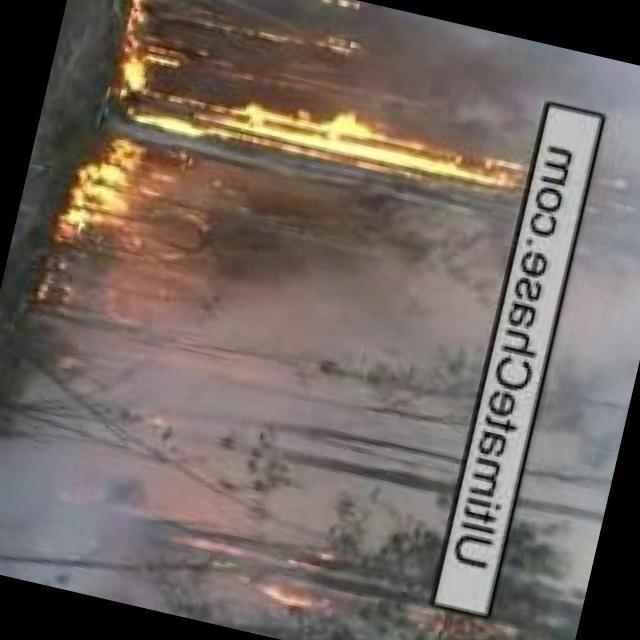Fire: (172, 61, 597, 224), (56, 1, 204, 277), (236, 567, 334, 623)
